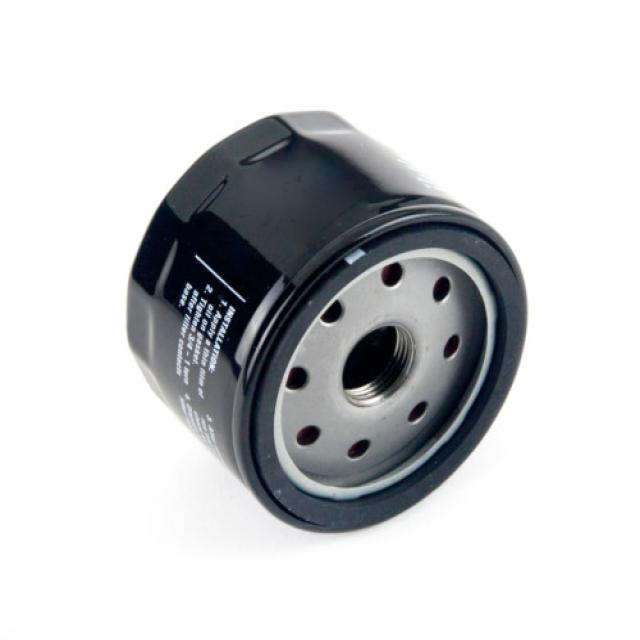oil_filter: (130, 124, 534, 539)
